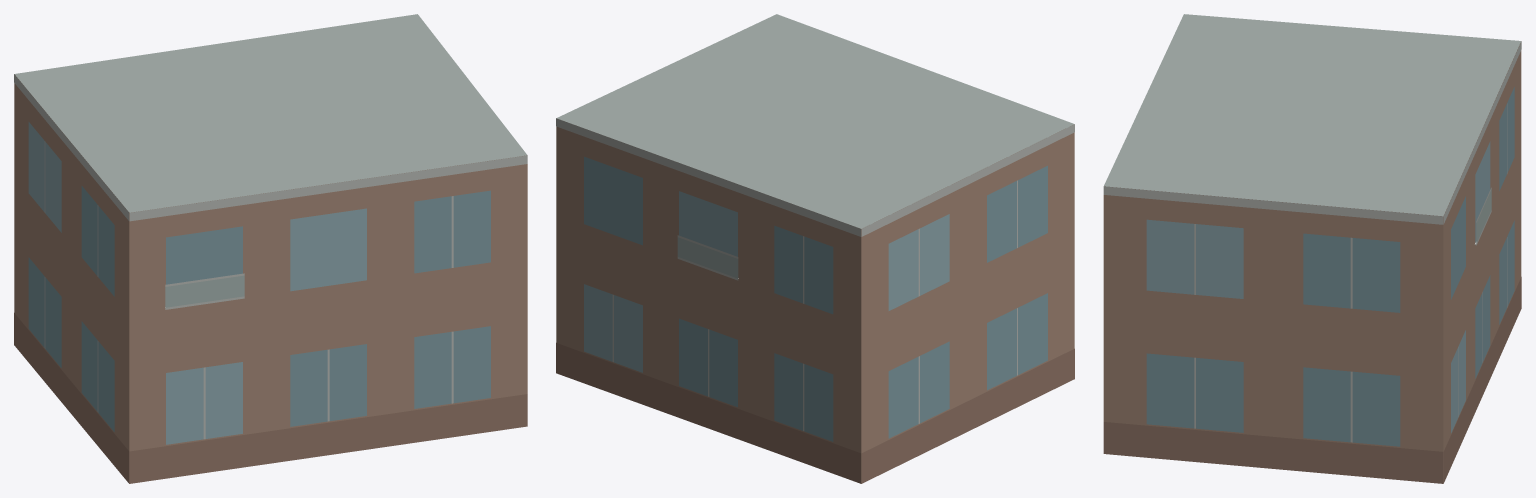
Rendered from survey-upis-32963163.glb.
3 views of the same model, side by side, from view 1: azimuth 30°, elevation 25°; view 2: azimuth 150°, elevation 25°; view 3: azimuth 270°, elevation 25° (orthographic). The views are drawn at different scales.
Parts seen in each view (by area): view 1: survey-upis-32963163.tmp; view 2: survey-upis-32963163.tmp; view 3: survey-upis-32963163.tmp.
Boxes of the visible parts, x1=… form: survey-upis-32963163.tmp: x1=14, y1=14, x2=527, y2=483; survey-upis-32963163.tmp: x1=556, y1=14, x2=1074, y2=483; survey-upis-32963163.tmp: x1=1103, y1=14, x2=1521, y2=483.
Bounding box in the file's own units: 12.33 × 7.6 × 10.77.
